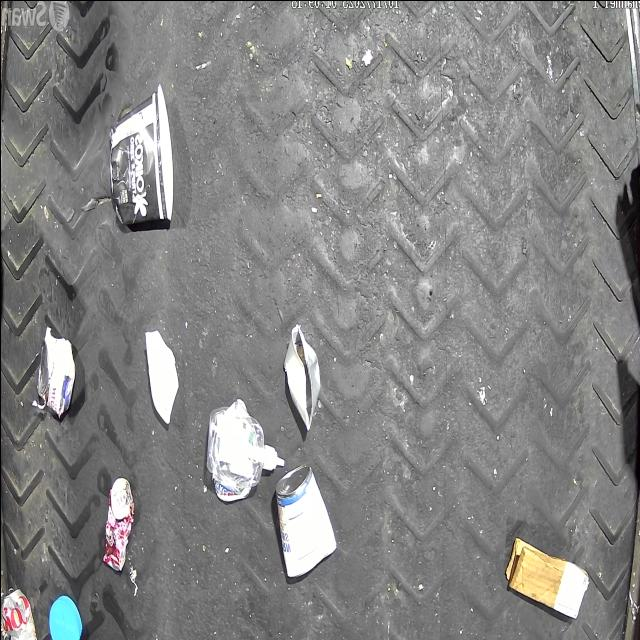can: (274, 462, 338, 578), (283, 322, 321, 430), (101, 477, 134, 572), (38, 334, 74, 415), (0, 586, 36, 640)
